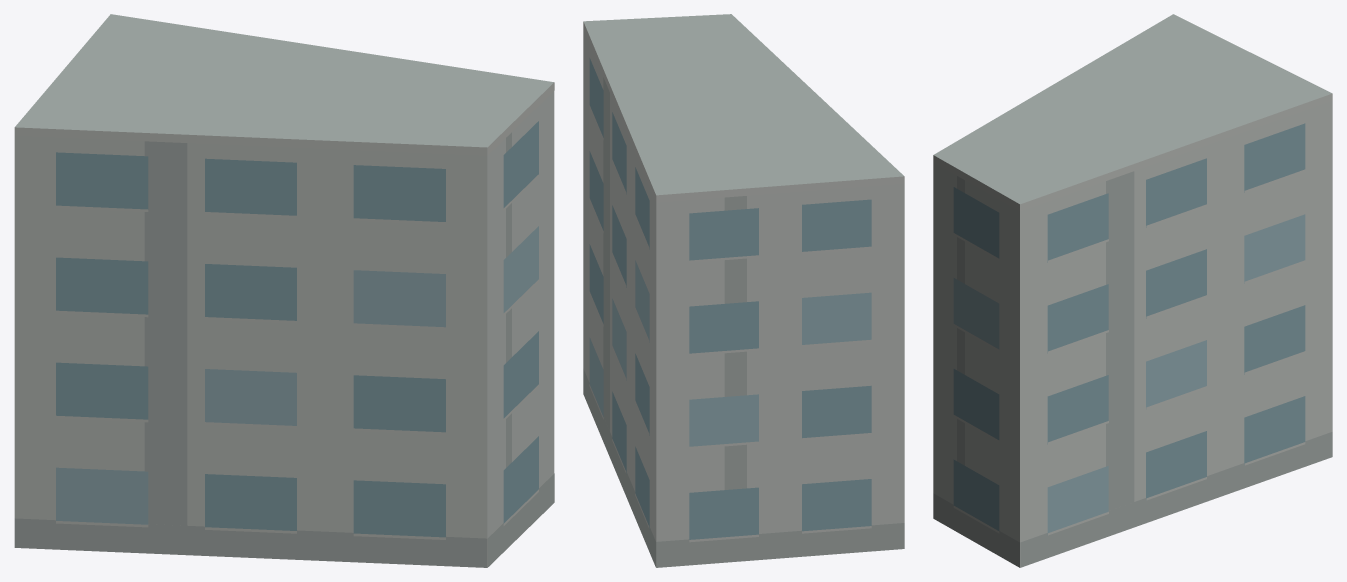
File: residential-e4d8824e-b13c-4521-a2f2-1bb8496d3c3a.glb
3 views of the same model, side by side, from view 1: azimuth 30°, elevation 25°; view 2: azimuth 150°, elevation 25°; view 3: azimuth 270°, elevation 25° (orthographic). The views are drawn at different scales.
Visible parts, largest first — view 1: residential-e4d8824e-b13c-4521-a2f2-1bb8496d3c3a.tmp; view 2: residential-e4d8824e-b13c-4521-a2f2-1bb8496d3c3a.tmp; view 3: residential-e4d8824e-b13c-4521-a2f2-1bb8496d3c3a.tmp.
Boxes of the visible parts, x1,y1,x2,y2 form: residential-e4d8824e-b13c-4521-a2f2-1bb8496d3c3a.tmp: (14,14,554,567); residential-e4d8824e-b13c-4521-a2f2-1bb8496d3c3a.tmp: (583,14,904,567); residential-e4d8824e-b13c-4521-a2f2-1bb8496d3c3a.tmp: (933,14,1332,567).
Size of the model in its own units: 13.71 by 12.2 by 12.15.
